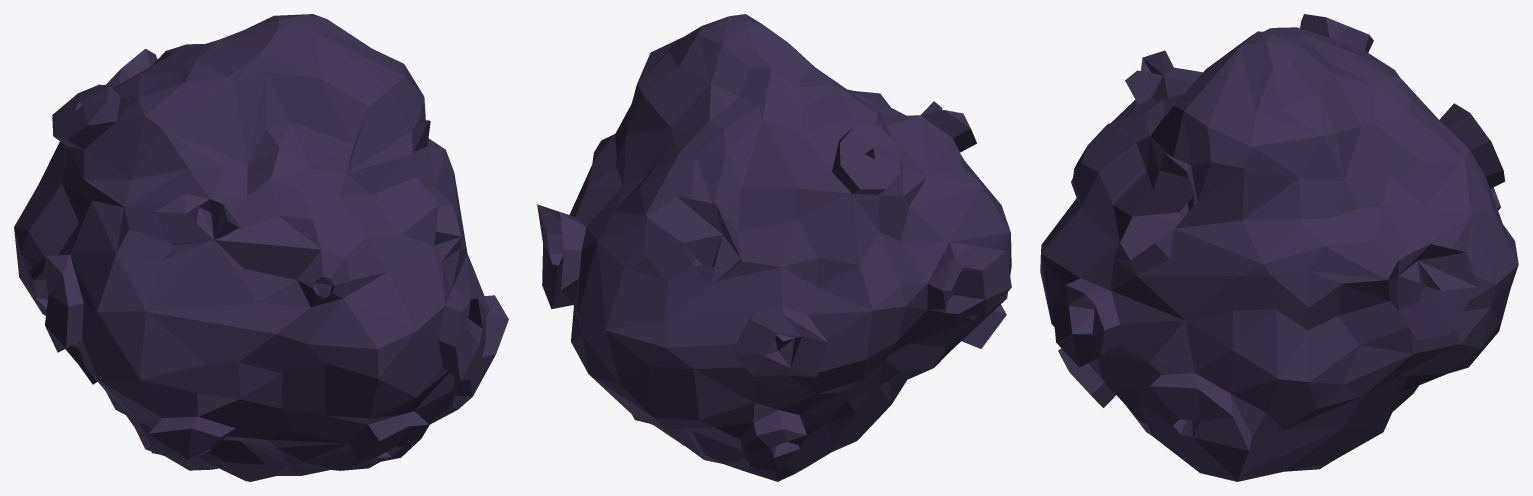
File: MetalOre.fbx
3 renders of one model, left to right at view 1: azimuth 30°, elevation 25°; view 2: azimuth 150°, elevation 25°; view 3: azimuth 270°, elevation 25°, orthographic. The views are drawn at different scales.
Visible parts, largest first — view 1: Sphere.005; view 2: Sphere.005; view 3: Sphere.005.
Boxes of the visible parts, x1,y1,x2,y2 form: Sphere.005: (14, 14, 508, 481); Sphere.005: (537, 14, 1011, 481); Sphere.005: (1040, 14, 1518, 481).
Size of the model in its own units: 86.78 by 88.1 by 89.18.
